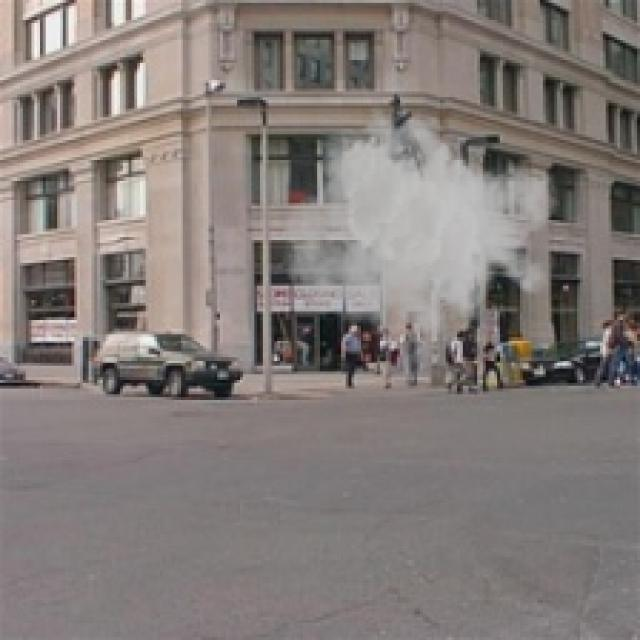Smoke: (283, 106, 560, 366)
